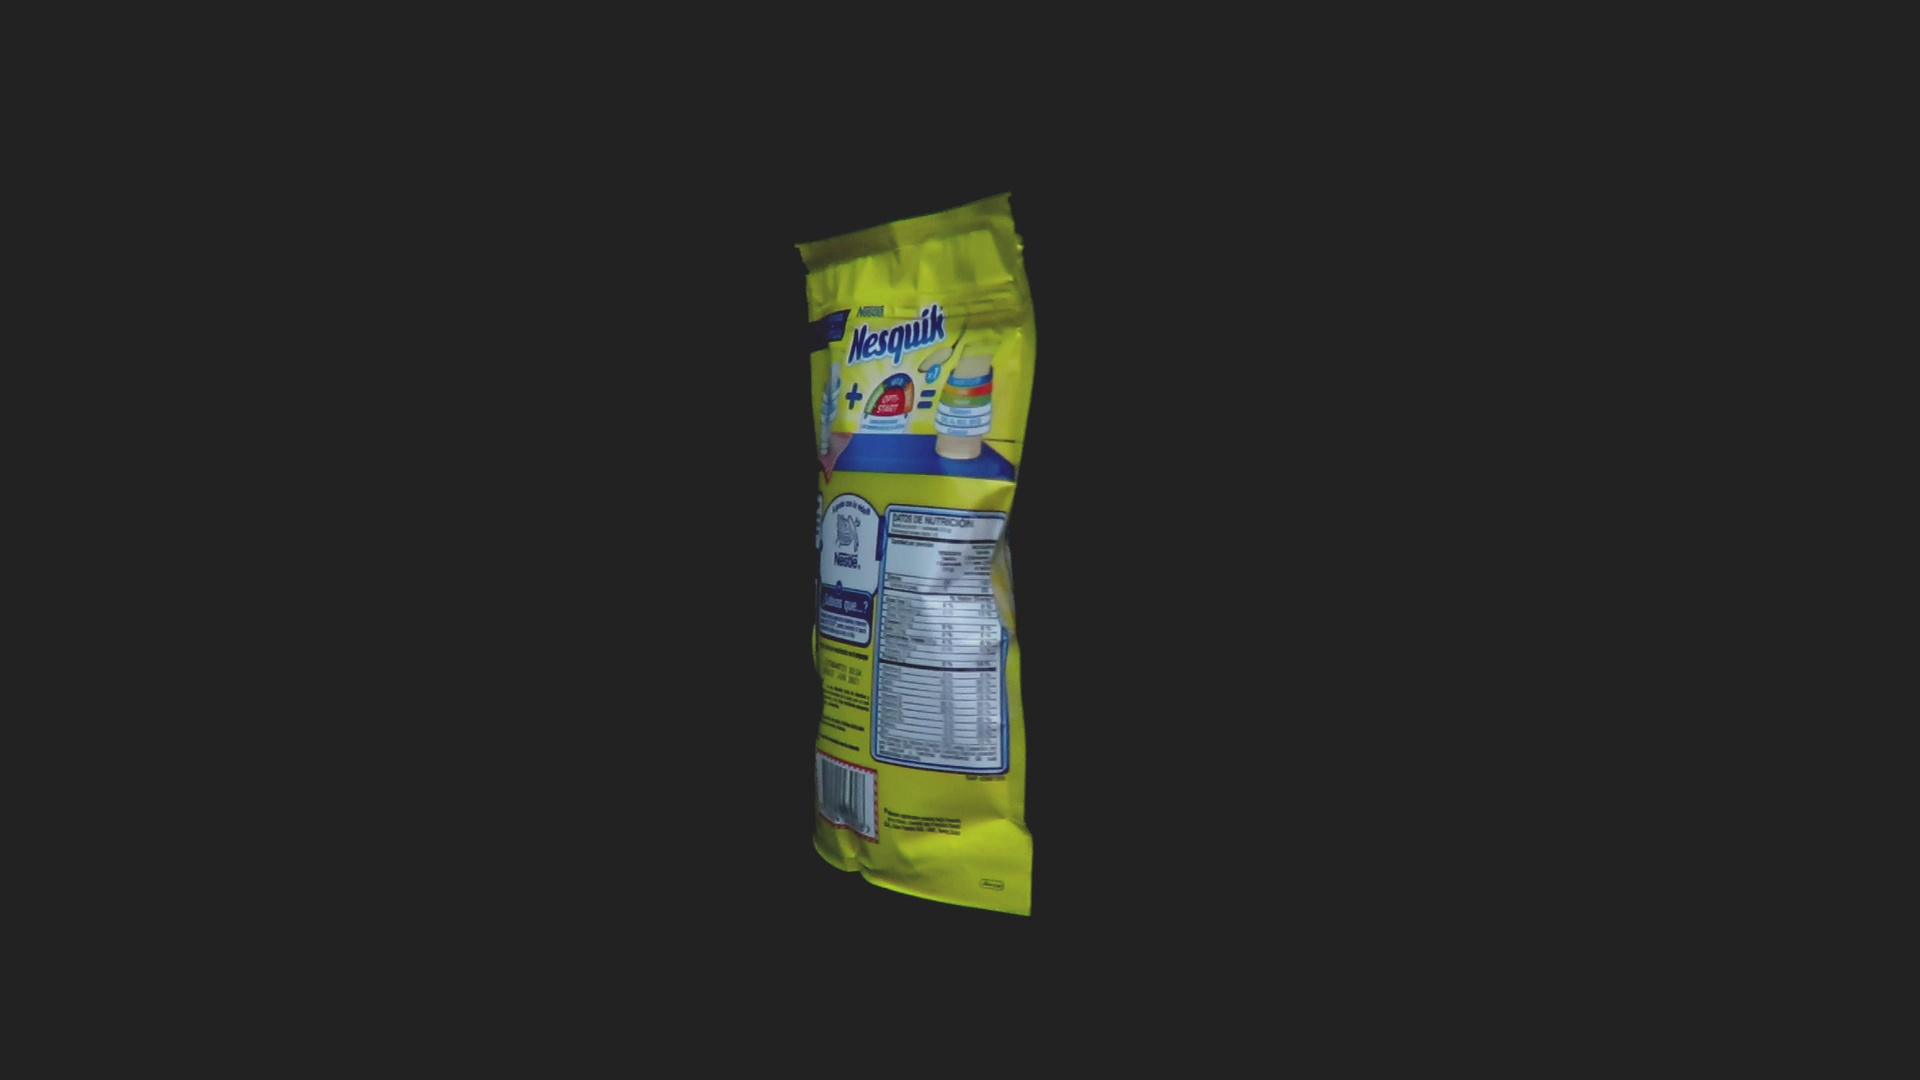COL0170306DYP20000: (789, 187, 1043, 922)
